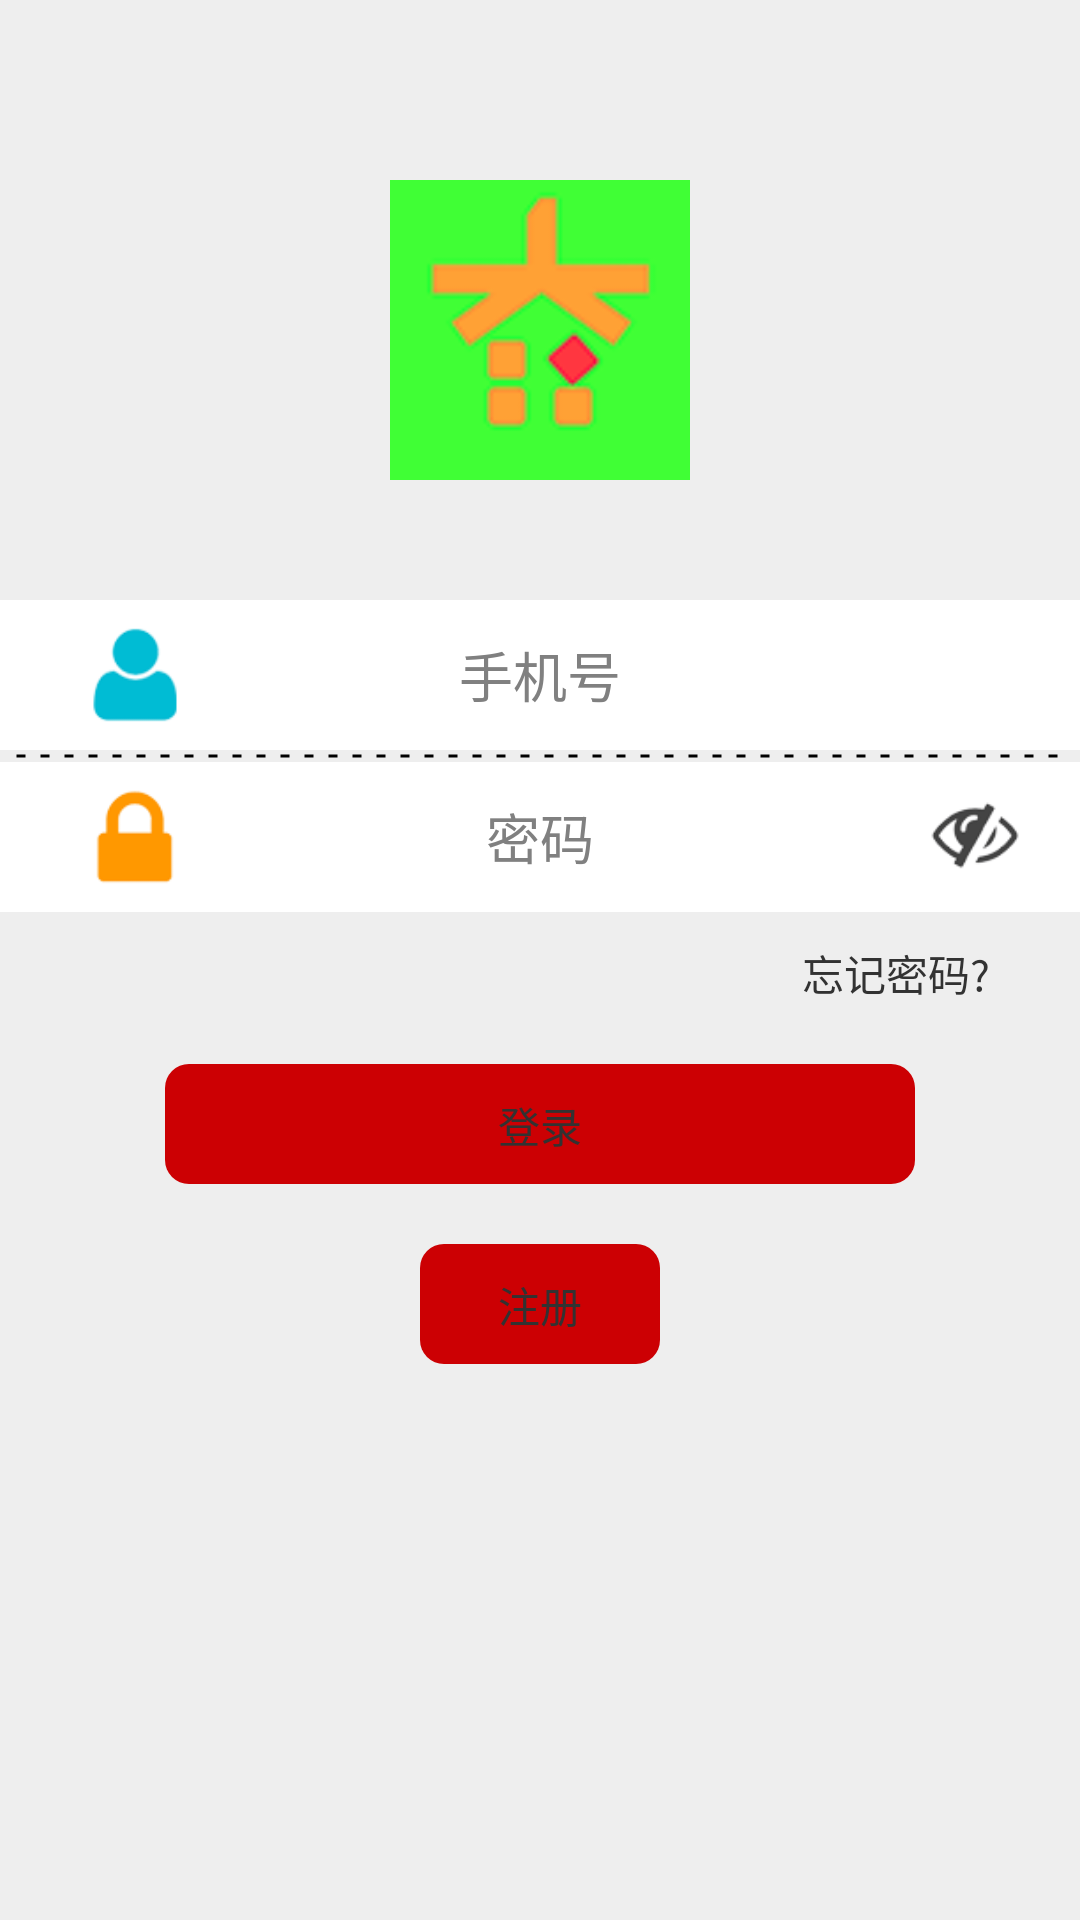

Locate icon controls on the screen. Image size 1080x1920, boxes as (x1, y1, x2, y2).
but eye off: (932, 803, 1019, 868)
login password: (97, 791, 173, 883)
